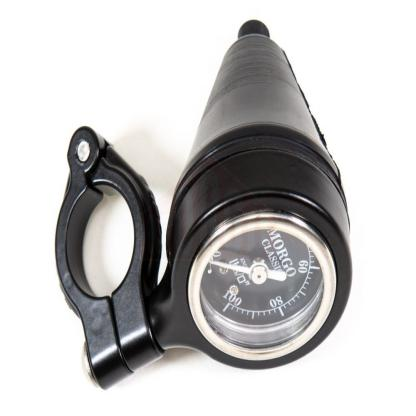needle: (209, 259, 249, 275)
